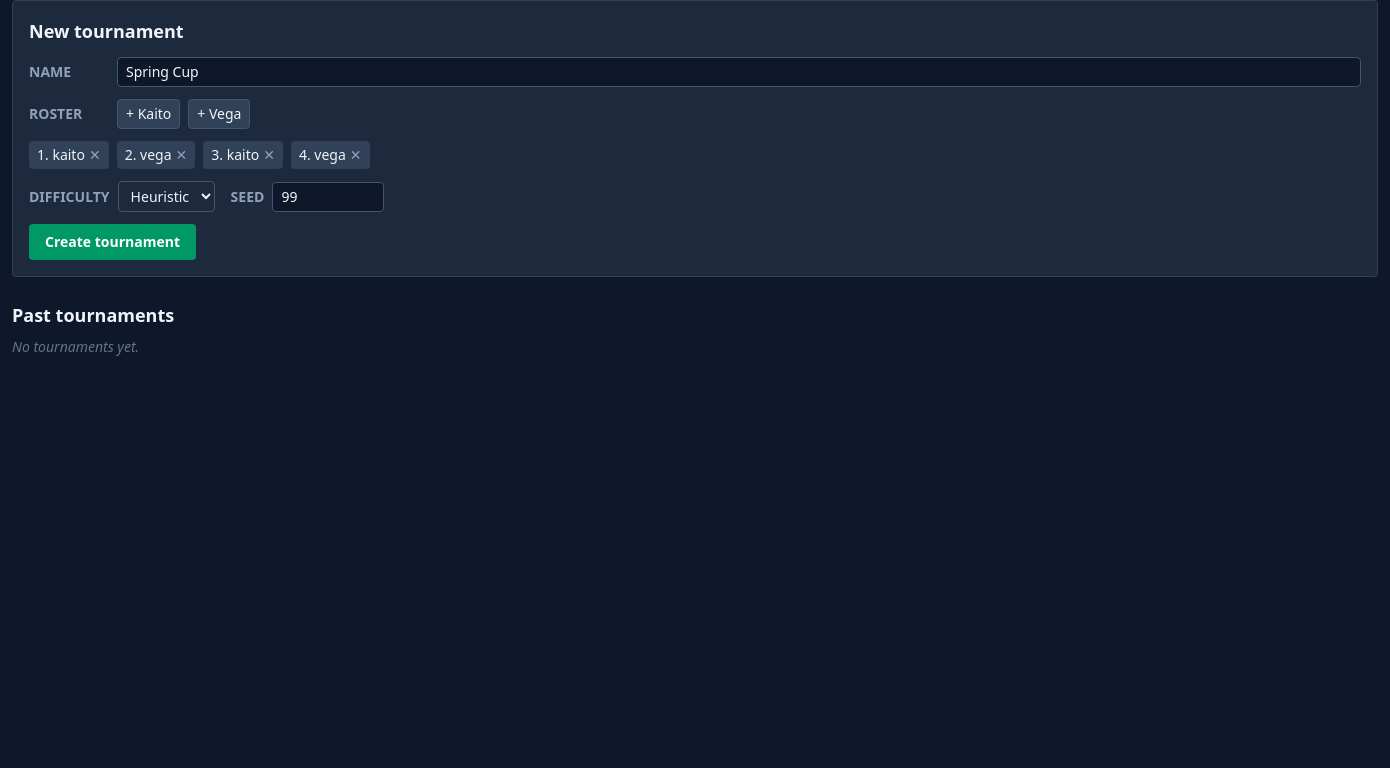
Test: TournamentScreen › advances one match per click and re-renders the returned bracket
Click the button with test id "create-tournament": coordinates (112, 242) [29,224,196,260]
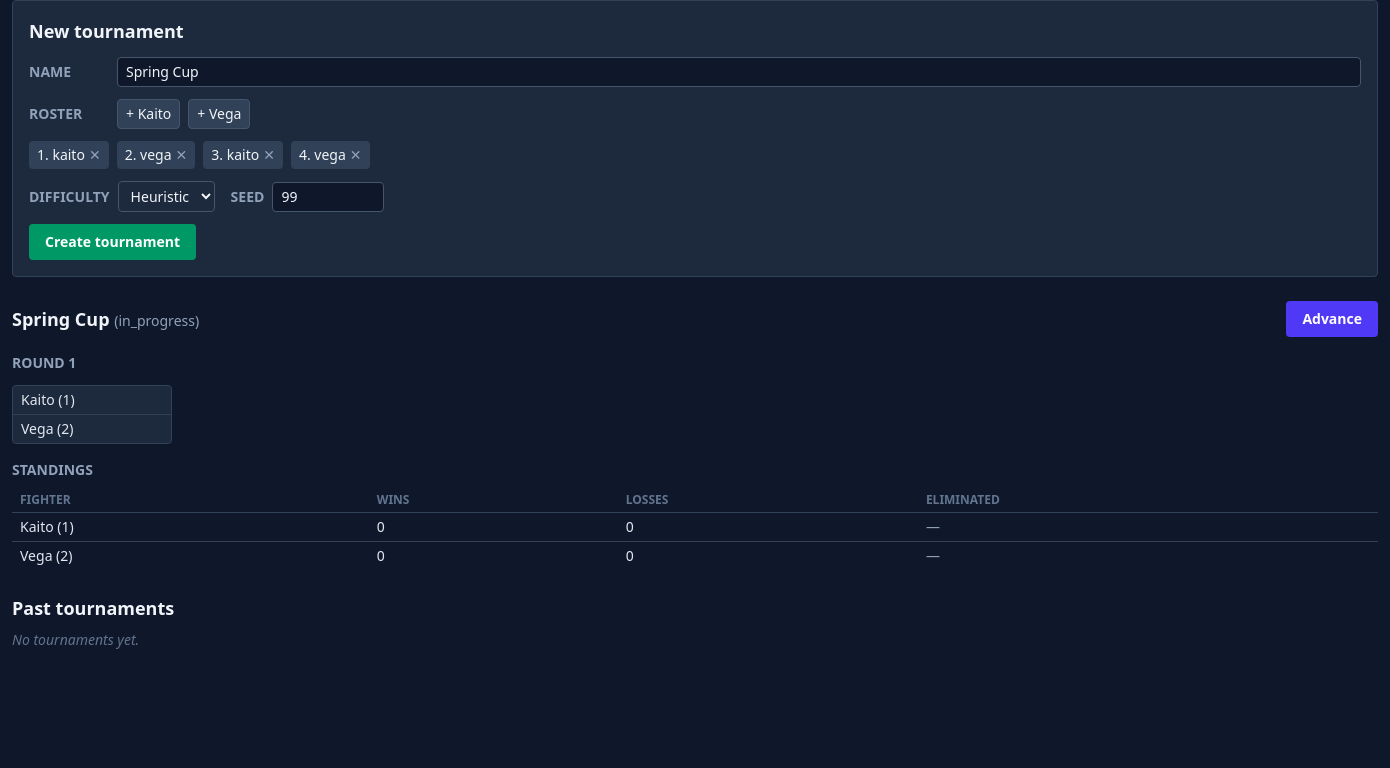
Click the button with test id "advance": coordinates (1332, 319) [1286,301,1378,337]
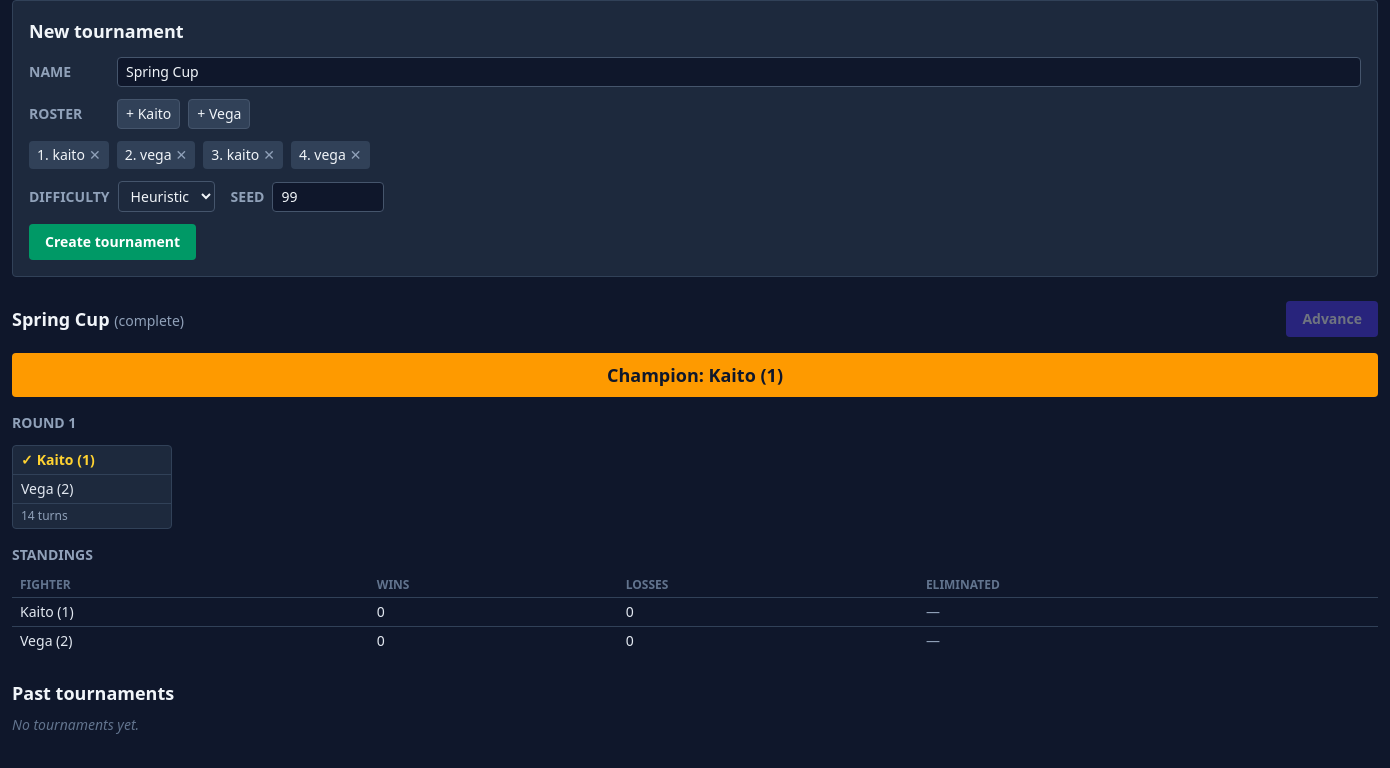
Result: the text with test id "champion" shows "Kaito (1)" at [708,363,783,387]
